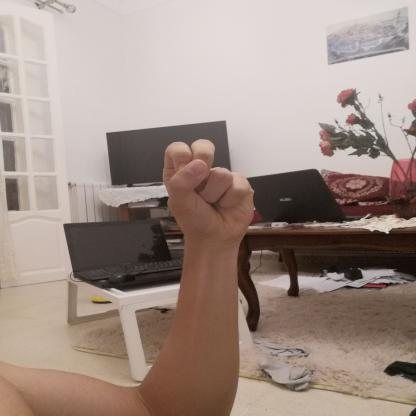QAAF: (138, 125, 278, 260)
